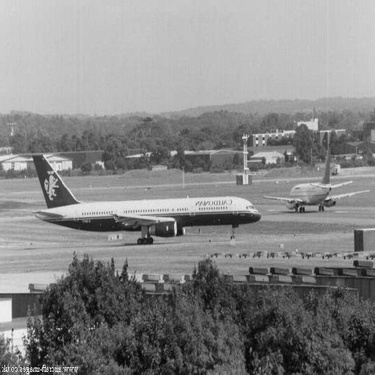airplane: (14, 129, 267, 260), (251, 145, 369, 214)
